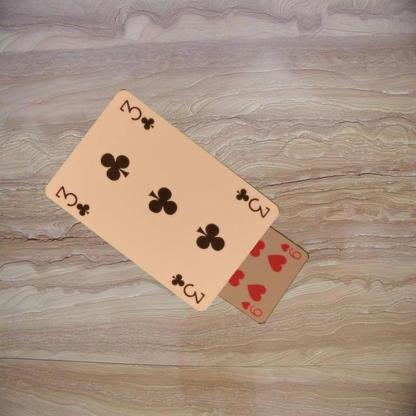3c: (52, 182, 92, 218), (233, 185, 272, 219)
9h: (278, 240, 303, 262)
